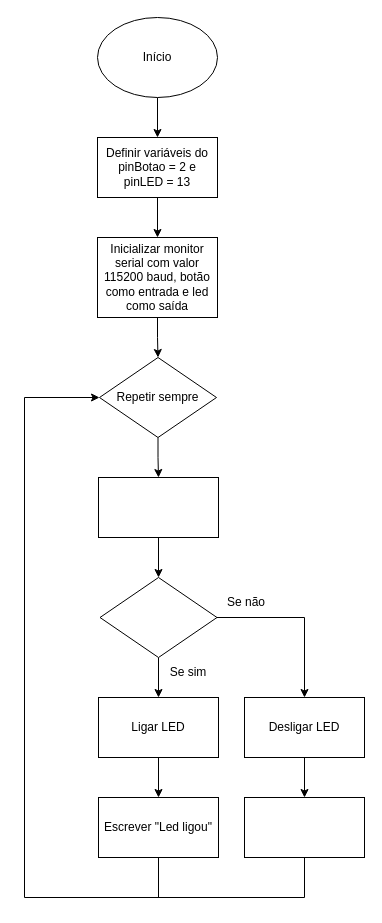
This 382x923 diagram has some shape labels left out. The shapes that lost their labels are listed below. From the top down, each one's centre as x and y in pixels, then its label:
pixel 158 507: Ler estado do botão
pixel 158 617: Se botão estiver pressionado
pixel 304 827: Escrever "Led desligou"
